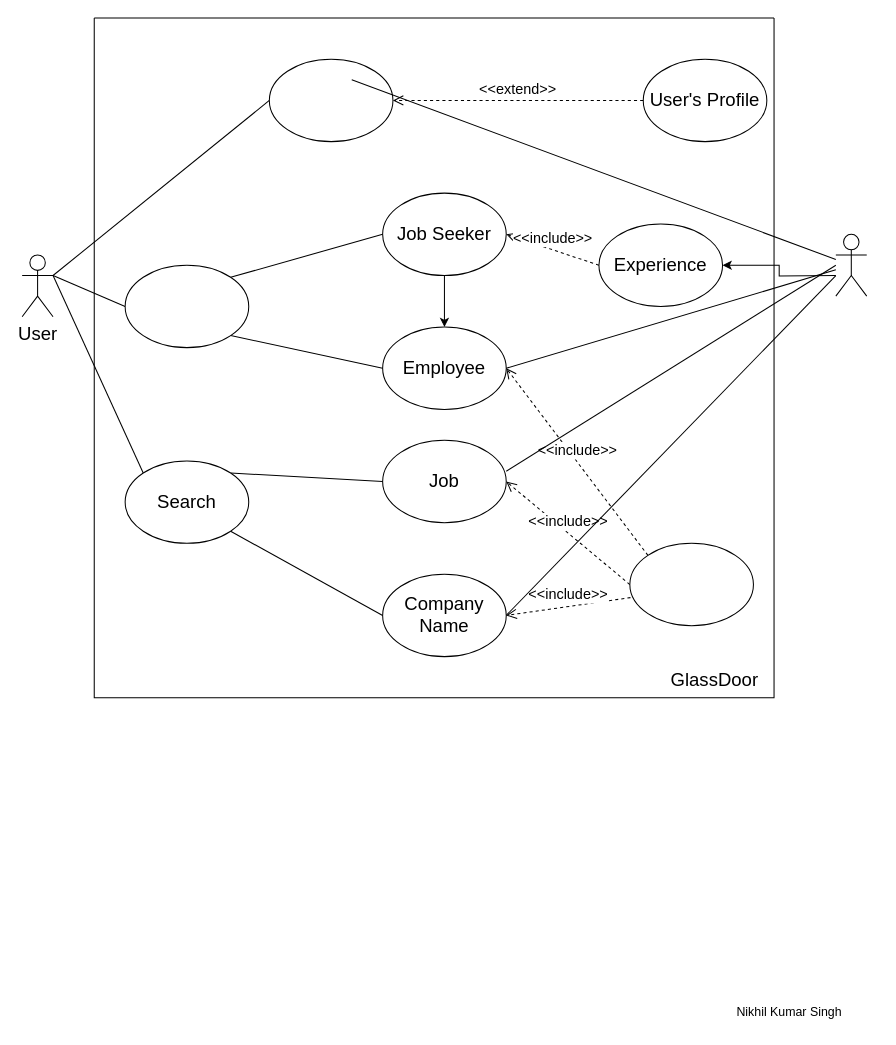
Image size: 896x1045. Some labels were removed from this diagram. Each missing label, with the box of its shape:
login: (268, 58, 393, 142)
Server: (835, 233, 867, 296)
Skills: (629, 542, 753, 626)
User Registraion: (124, 264, 249, 348)
